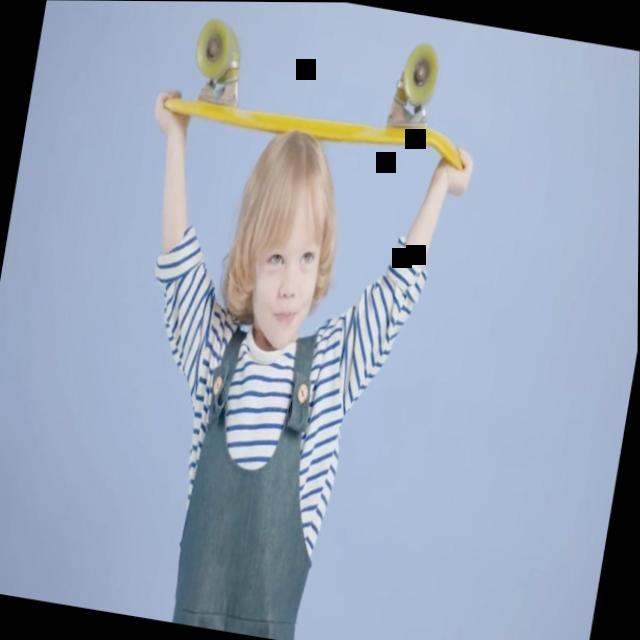NO-Mask: (245, 209, 327, 353)
